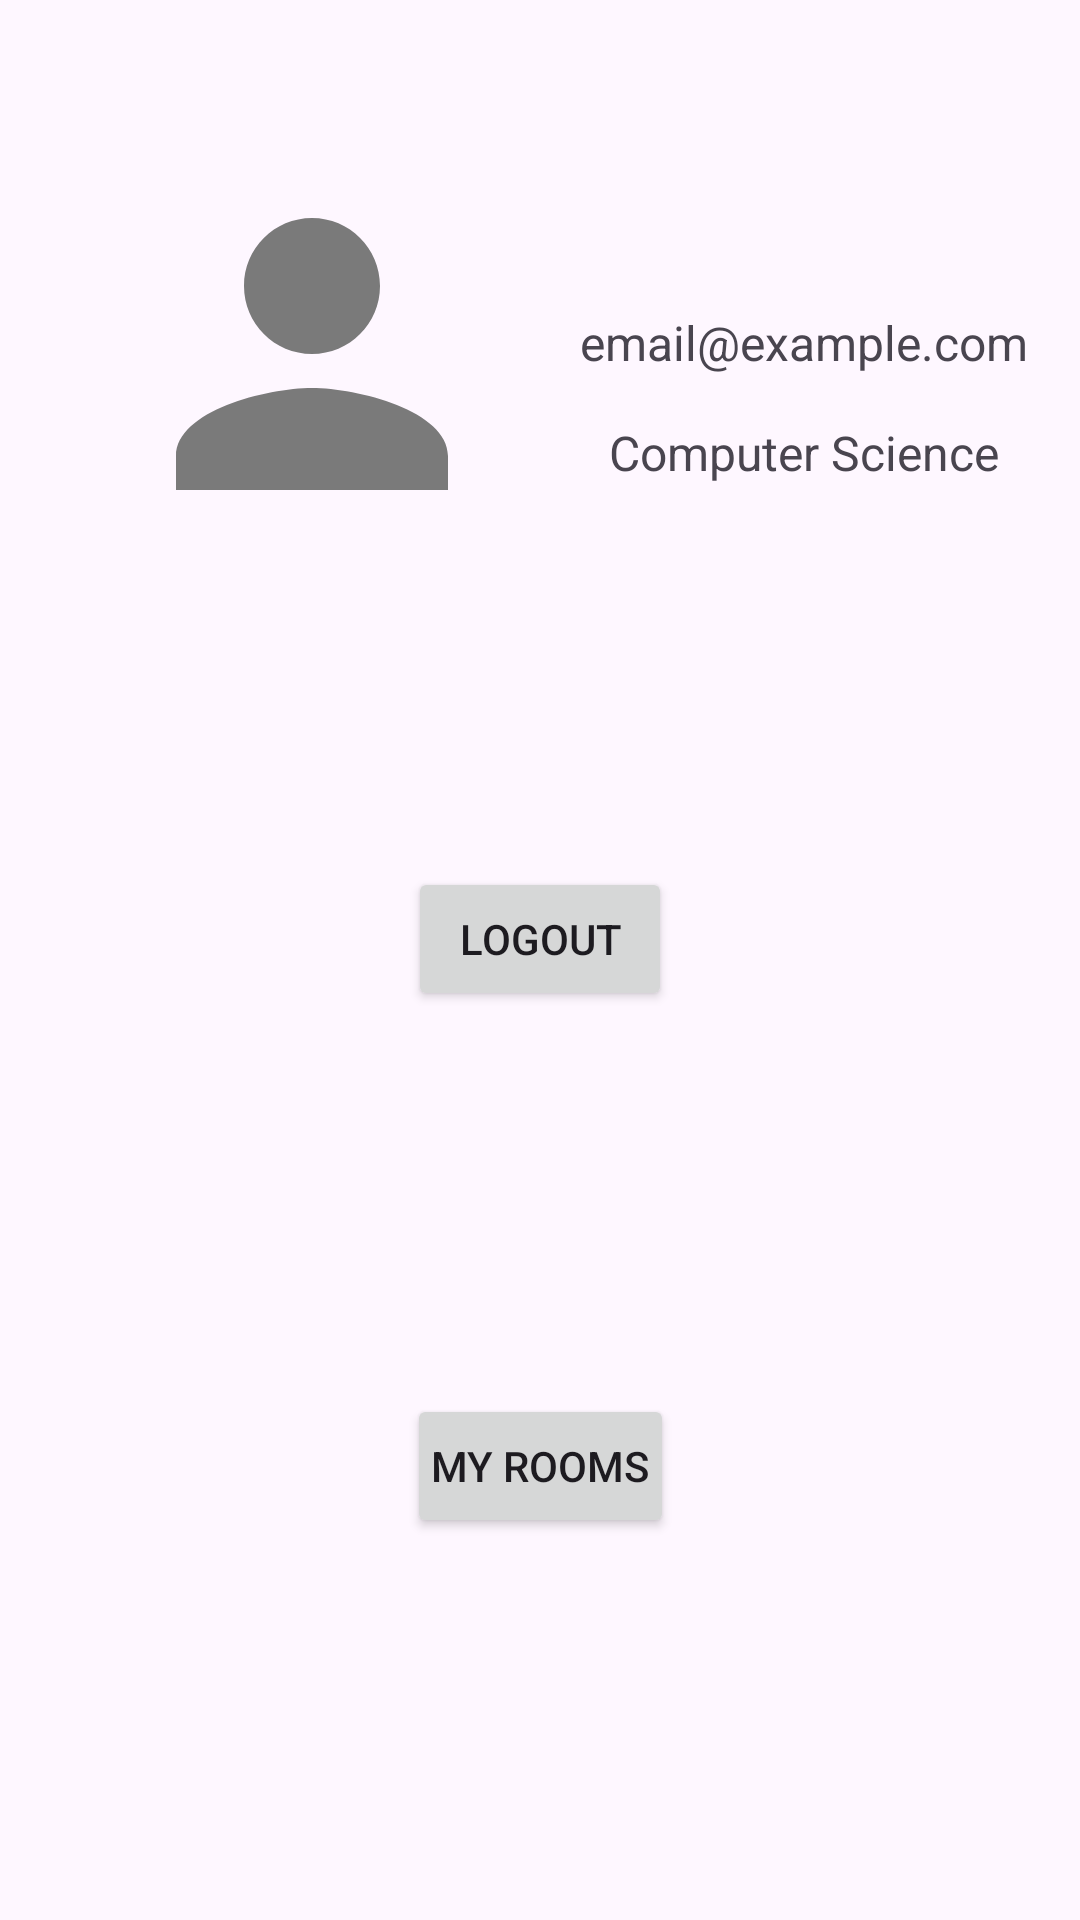

Icon click points for this 1080 x 1920 phone screenshot, format point (x, y):
profile pic: point (312, 354)
